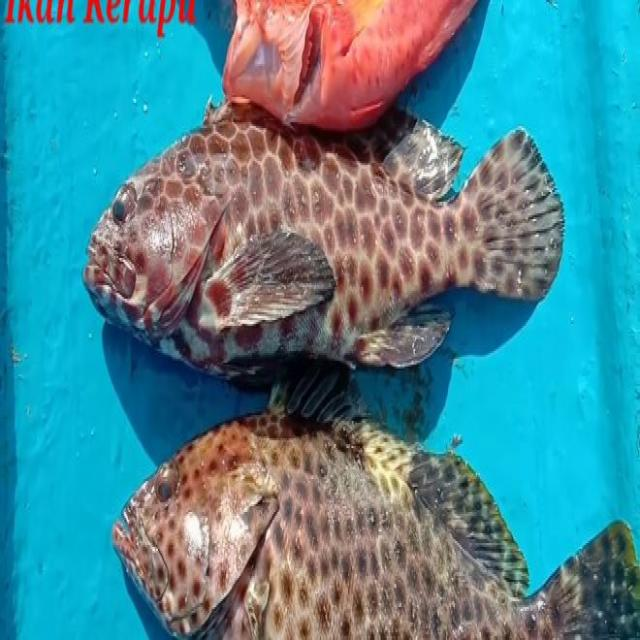grouper: (87, 368, 640, 640), (85, 109, 568, 376)
